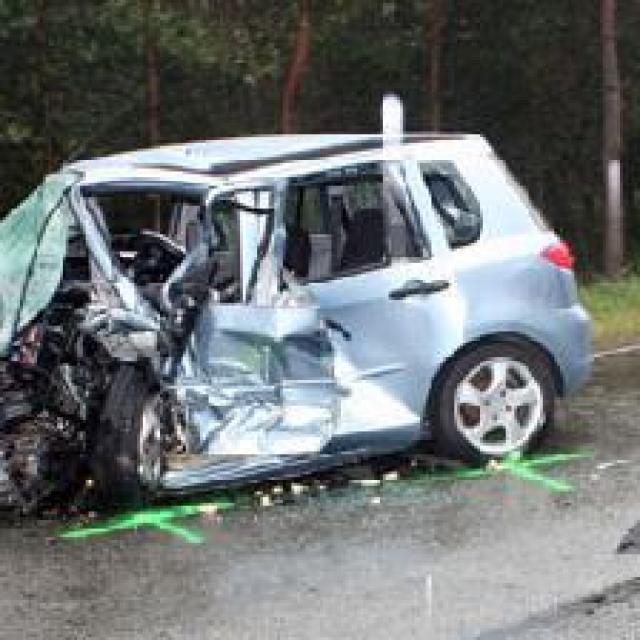damaged: (0, 165, 486, 520)
